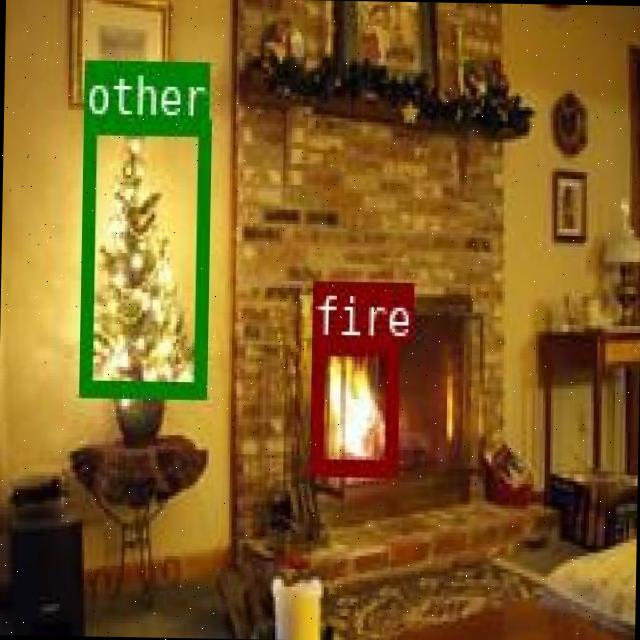fire: (308, 336, 396, 471)
